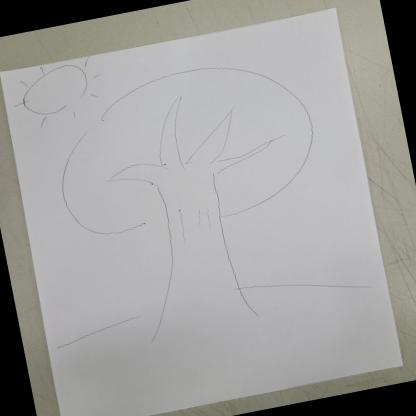branch_sharp: (94, 74, 293, 202)
crown_mushroom: (44, 48, 330, 250)
root_none: (121, 275, 274, 353)
trunk_bark: (152, 179, 236, 282)
